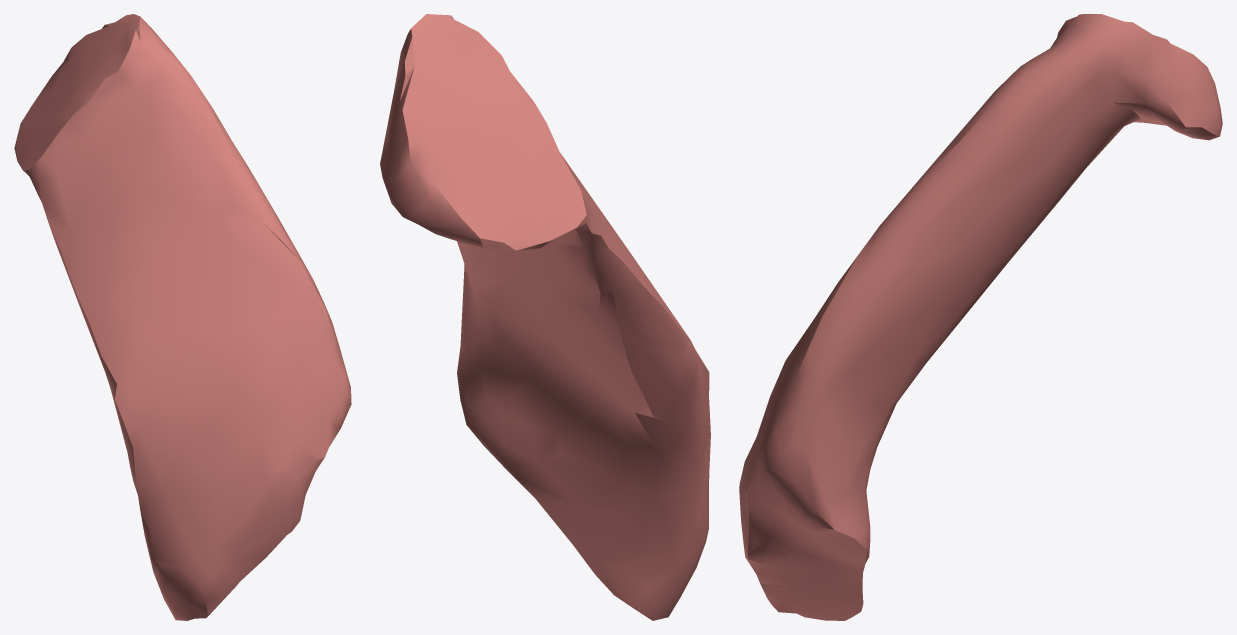
The model's file is fma81539_mm1320m.glb.
3 views of the same model, side by side, from view 1: azimuth 30°, elevation 25°; view 2: azimuth 150°, elevation 25°; view 3: azimuth 270°, elevation 25° (orthographic). The views are drawn at different scales.
Parts seen in each view (by area): view 1: FMA81539_MM1320M; view 2: FMA81539_MM1320M; view 3: FMA81539_MM1320M.
Boxes of the visible parts, x1,y1,x2,y2 form: FMA81539_MM1320M: (14, 14, 351, 620); FMA81539_MM1320M: (380, 14, 710, 620); FMA81539_MM1320M: (739, 14, 1222, 620).
Bounding box in the file's own units: 0.0049 × 0.0118 × 0.00792.
